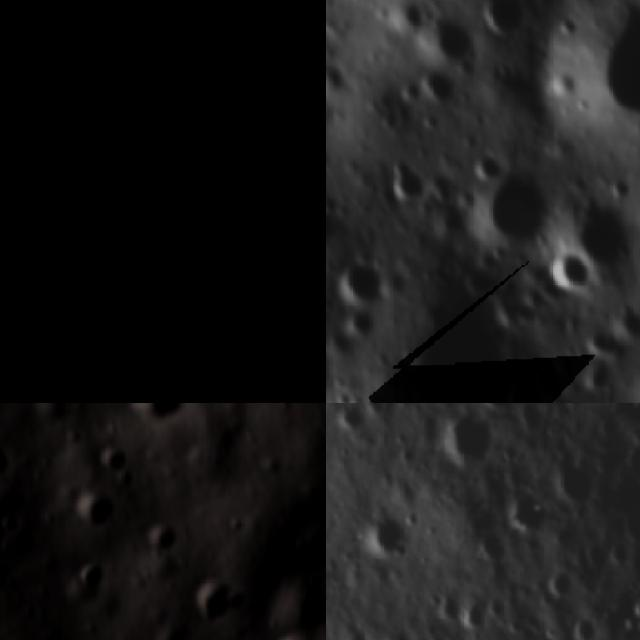crater: (0, 0, 326, 403), (576, 0, 640, 144), (569, 187, 640, 273), (476, 172, 553, 248), (424, 15, 489, 75), (190, 570, 252, 628), (440, 405, 497, 461), (340, 250, 395, 306), (479, 0, 546, 43), (361, 510, 417, 561), (498, 484, 554, 535), (278, 573, 326, 632), (381, 153, 432, 204), (77, 484, 128, 530), (548, 458, 594, 509), (462, 141, 511, 187), (549, 252, 598, 294), (425, 583, 466, 628), (389, 0, 442, 32), (117, 403, 190, 423), (301, 513, 326, 570), (91, 443, 131, 478), (476, 530, 512, 567), (608, 299, 640, 340), (456, 600, 492, 636), (344, 302, 382, 336), (330, 403, 366, 437), (0, 437, 23, 484), (568, 610, 600, 640), (549, 566, 577, 600), (376, 624, 415, 640), (476, 403, 517, 416)
